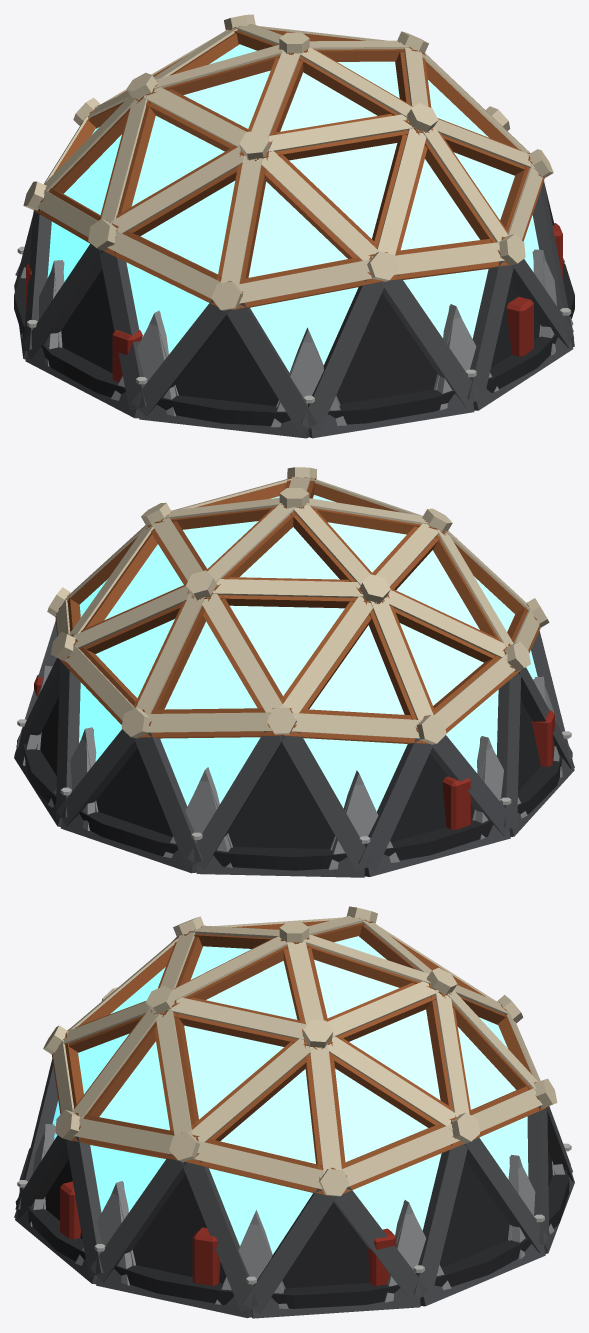
File: lab.glb
The picture shows the model from 3 angles, top to bottom: view 1: azimuth 30°, elevation 25°; view 2: azimuth 150°, elevation 25°; view 3: azimuth 270°, elevation 25°; orthographic projection. The views are drawn at different scales.
Parts seen in each view (by area): view 1: body, anim_glow_lab; view 2: body, anim_glow_lab; view 3: body, anim_glow_lab.
Part boxes in pixels (left/top/right/bottom): body: left=14, top=14, right=574, bottom=438; anim_glow_lab: left=47, top=44, right=539, bottom=372; body: left=14, top=467, right=574, bottom=877; anim_glow_lab: left=79, top=495, right=537, bottom=811; body: left=14, top=906, right=574, bottom=1318; anim_glow_lab: left=52, top=936, right=528, bottom=1254.
Size of the model in its own units: 3 by 1.63 by 3.
